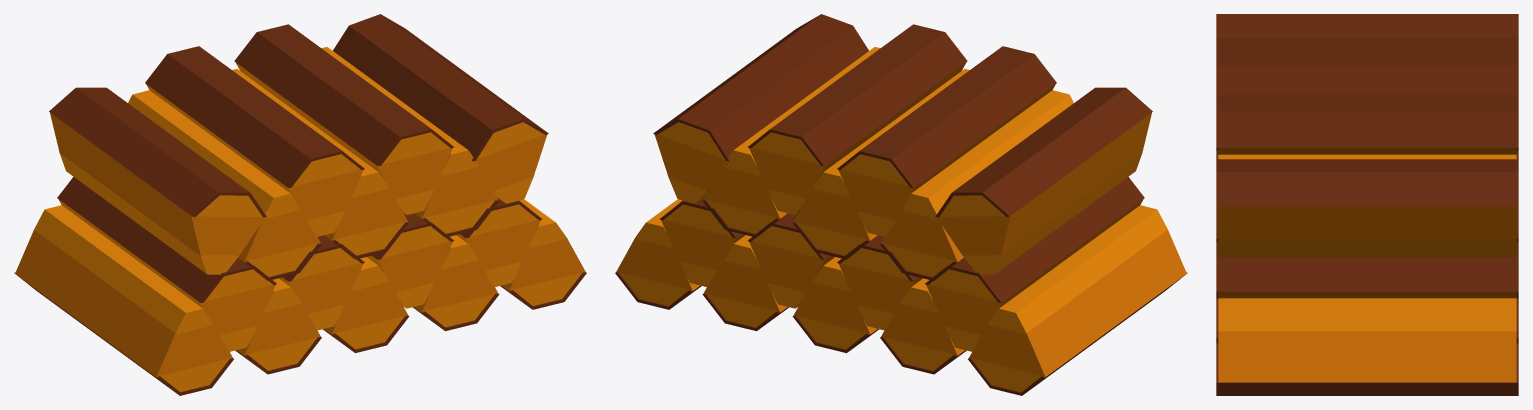
File: Small Log_32.fbx
The picture shows the model from 3 angles, left to right: view 1: azimuth 30°, elevation 25°; view 2: azimuth 150°, elevation 25°; view 3: azimuth 270°, elevation 25°; orthographic projection. The views are drawn at different scales.
Parts seen in each view (by area): view 1: Circle.484; view 2: Circle.484; view 3: Circle.484.
Part boxes in pixels (x1=…): Circle.484: x1=14, y1=14, x2=586, y2=395; Circle.484: x1=615, y1=14, x2=1187, y2=395; Circle.484: x1=1216, y1=14, x2=1518, y2=395.
Bounding box in the file's own units: 41.08 × 18.75 × 23.76.
